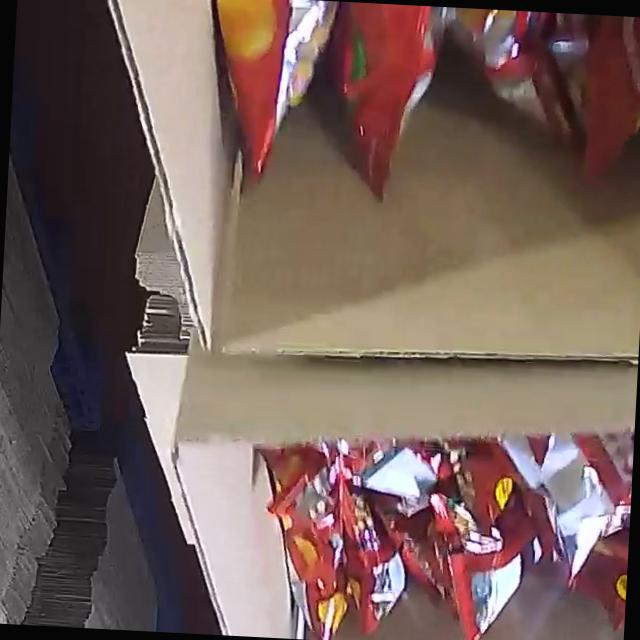masala: (177, 0, 640, 216), (246, 404, 635, 640)
